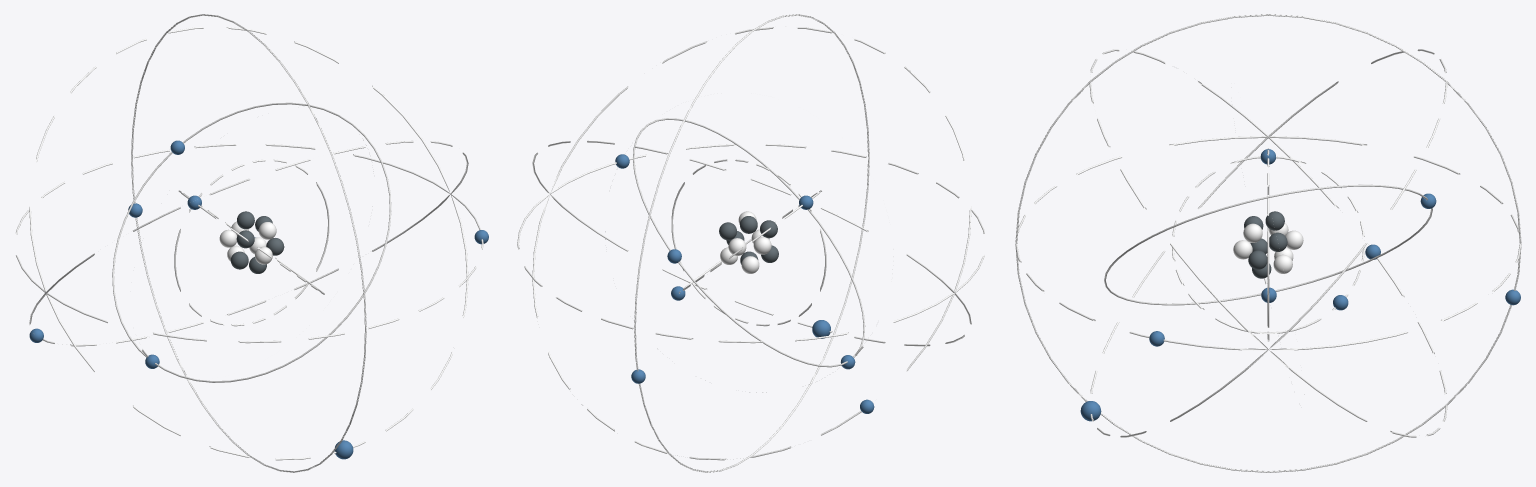
Rendered from AR-Schaubilder.gltf.
The picture shows the model from 3 angles, left to right: view 1: azimuth 30°, elevation 25°; view 2: azimuth 150°, elevation 25°; view 3: azimuth 270°, elevation 25°; orthographic projection. The views are drawn at different scales.
Visible parts, largest first — view 1: 3.4, 12, 3.1, 2.1, 3.3, 3.2, 1.1; view 2: 3.4, 12, 3.2, 3.3, 2.1, 3.1, 1.1; view 3: 3.4, 12, 3.3, 3.1, 3.2, 2.1, 1.2.
Part boxes in pixels (bbox=[...]): 3.4: bbox=[131, 14, 366, 472]; 12: bbox=[219, 211, 284, 273]; 3.1: bbox=[29, 27, 468, 460]; 2.1: bbox=[112, 102, 391, 382]; 3.3: bbox=[15, 144, 483, 343]; 3.2: bbox=[29, 140, 468, 346]; 1.1: bbox=[174, 159, 329, 326]; 3.4: bbox=[634, 14, 869, 472]; 12: bbox=[719, 211, 778, 273]; 3.2: bbox=[532, 26, 971, 460]; 3.3: bbox=[517, 144, 984, 343]; 2.1: bbox=[633, 118, 865, 367]; 3.1: bbox=[532, 140, 971, 346]; 1.1: bbox=[671, 159, 826, 326]; 3.4: bbox=[1015, 14, 1521, 472]; 12: bbox=[1233, 211, 1303, 278]; 3.3: bbox=[1015, 136, 1521, 350]; 3.1: bbox=[1090, 49, 1447, 437]; 3.2: bbox=[1089, 49, 1447, 437]; 2.1: bbox=[1104, 184, 1432, 305]; 1.2: bbox=[1172, 156, 1364, 334].
Bounding box in the file's own units: 10.57 × 10.57 × 10.57.
4 materials, 1 textured.
